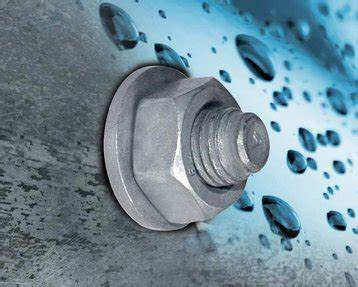bolt_b: (131, 74, 254, 225)
